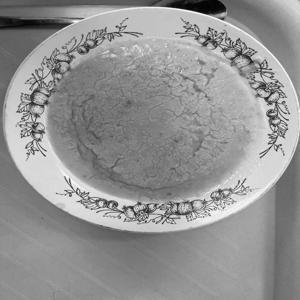porridge: (27, 35, 279, 198)
